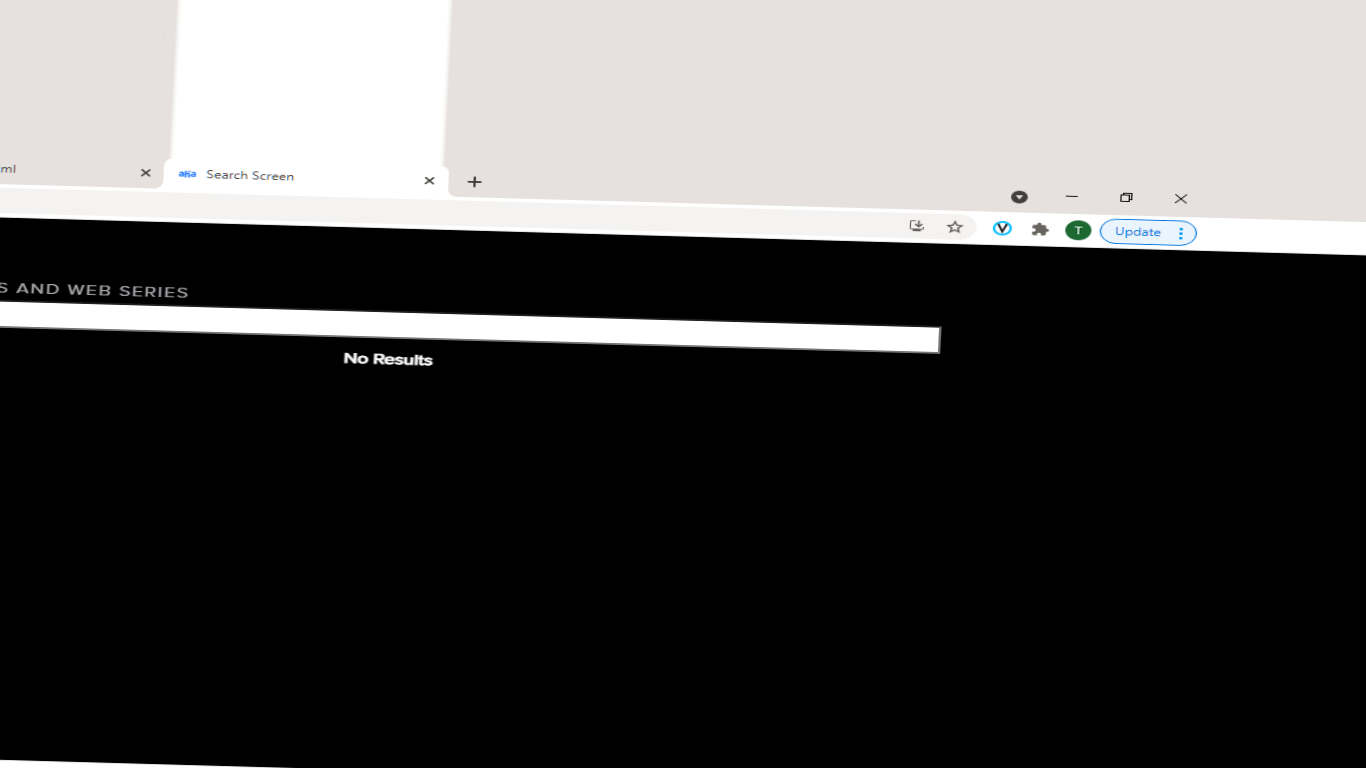noresultsfound: (269, 350, 463, 380)
searchtextbox: (1, 270, 944, 348)
